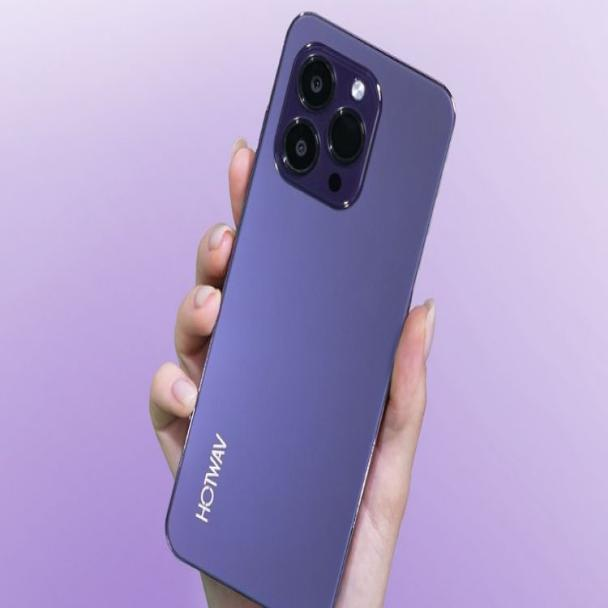Handphone: (160, 6, 464, 608)
